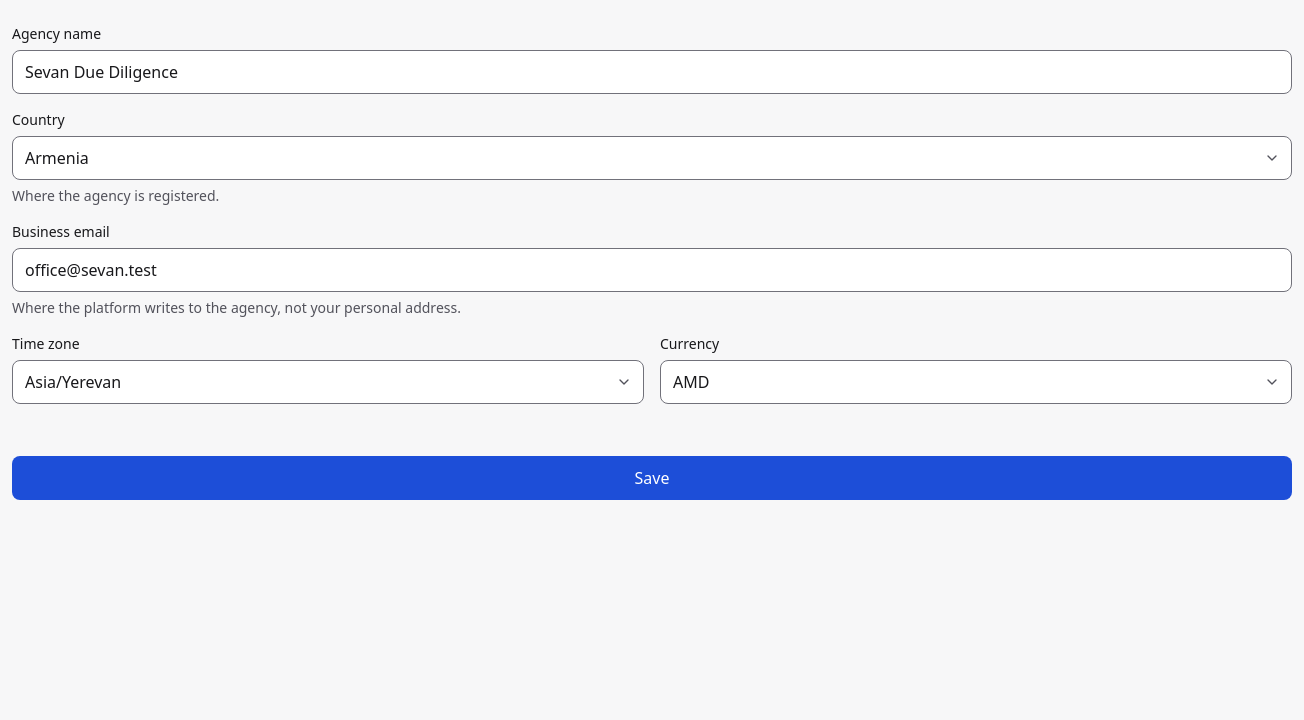
it: an agency’s details (T-150) › the owner’s form › shows a refused field’s message under that field
Replace the text in the field labelled "Business email" with "desk@sevan.test". click: (652, 270)
box: [12,248,1292,292]
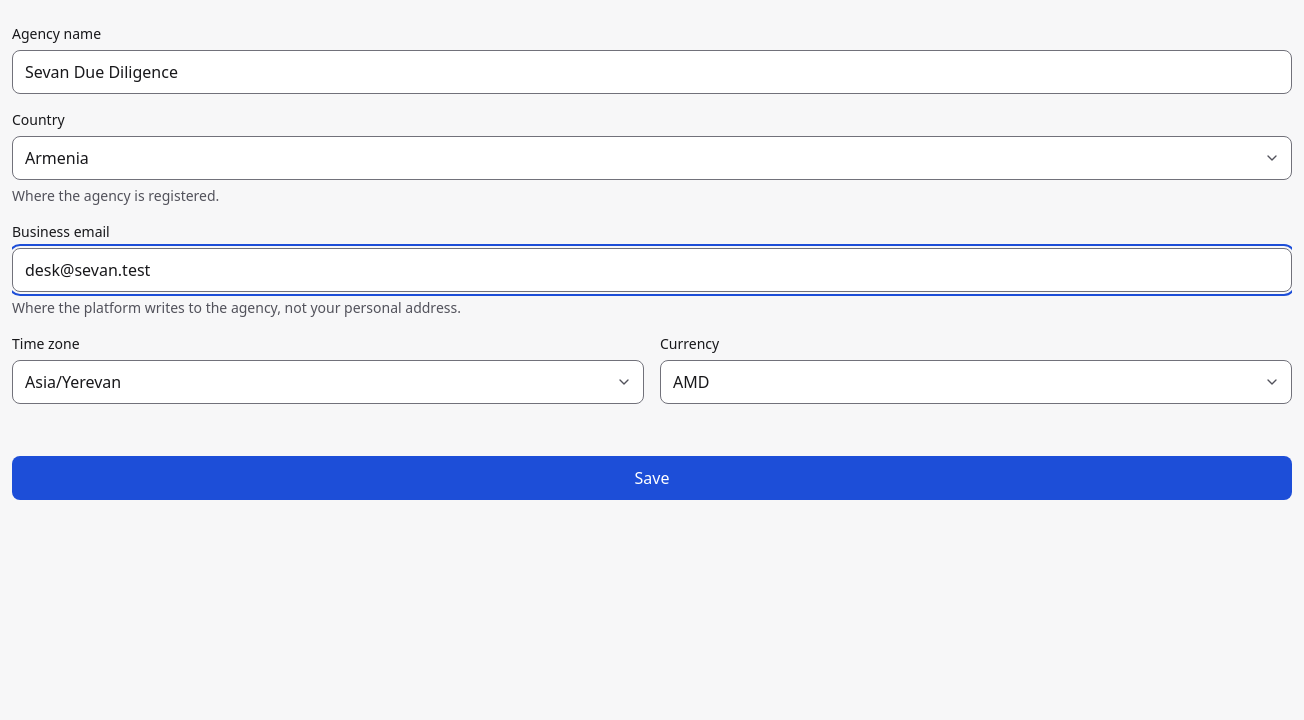
Click the button "Save". click: (652, 478)
box: [12,456,1292,500]
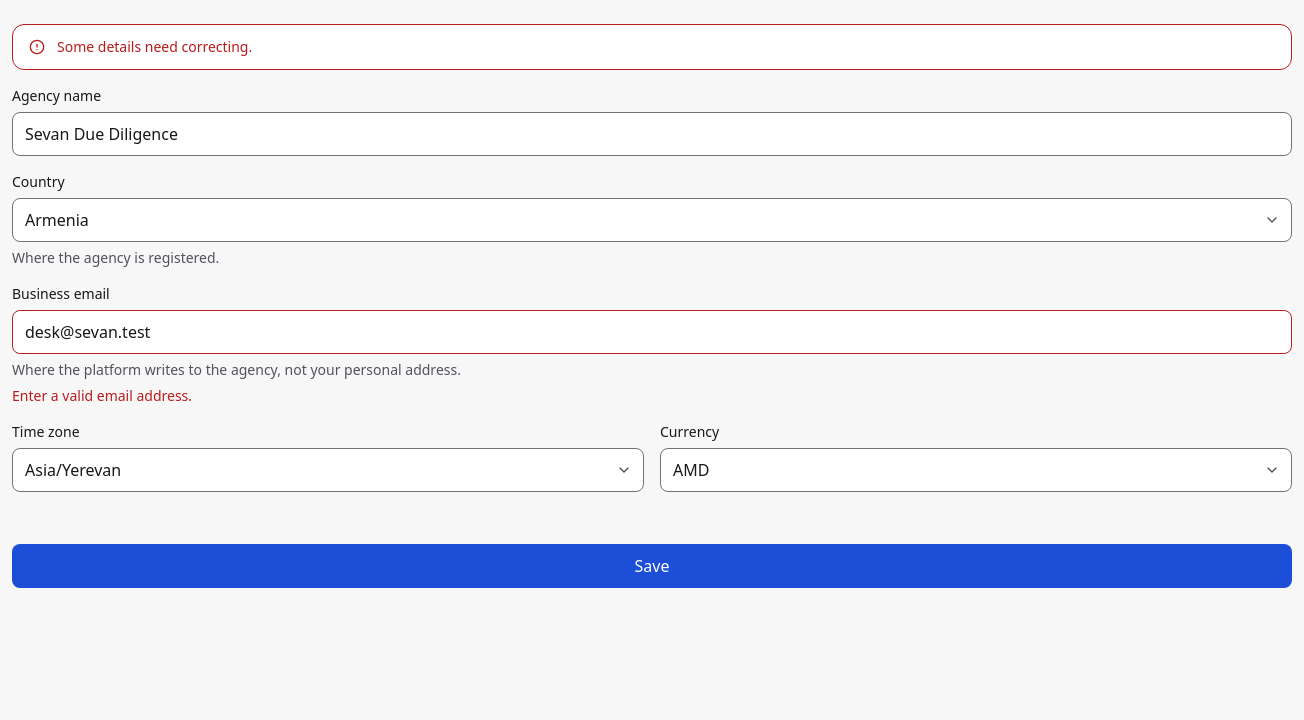
Result: the text "Enter a valid email address." is shown at [12,386,192,405]
